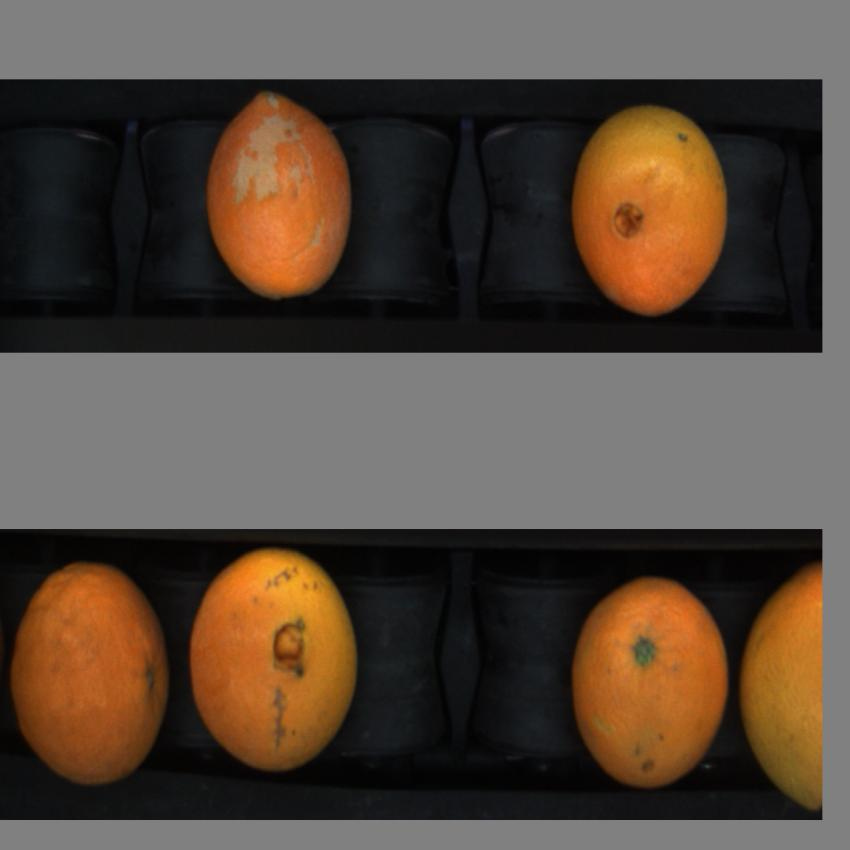Buen estado: (181, 545, 374, 790), (195, 87, 379, 309), (565, 564, 735, 800), (6, 557, 176, 792), (567, 93, 732, 331), (739, 552, 823, 811)
